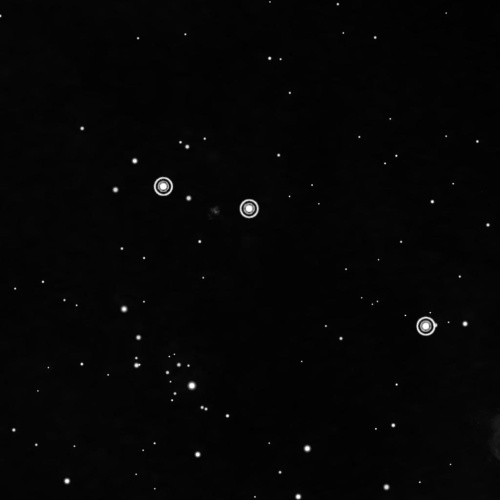vulpecula: (148, 172, 441, 343)
